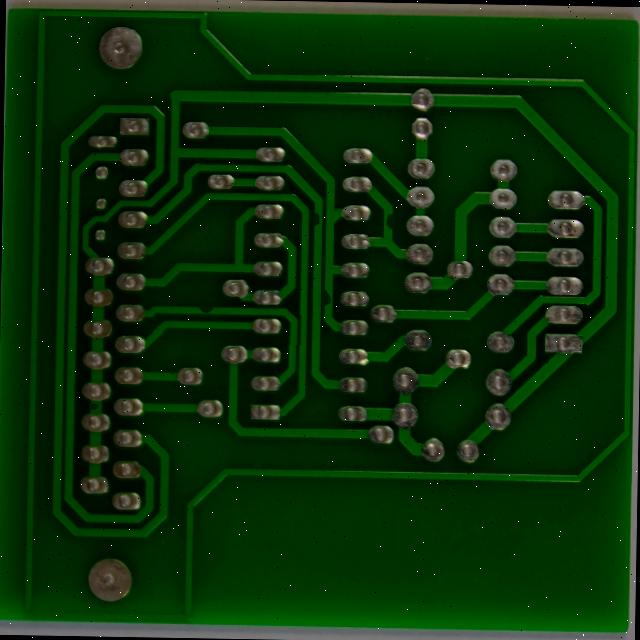mouse_bite: (282, 313, 301, 344), (350, 229, 371, 257), (19, 439, 45, 460), (269, 228, 288, 255), (142, 331, 166, 351)
